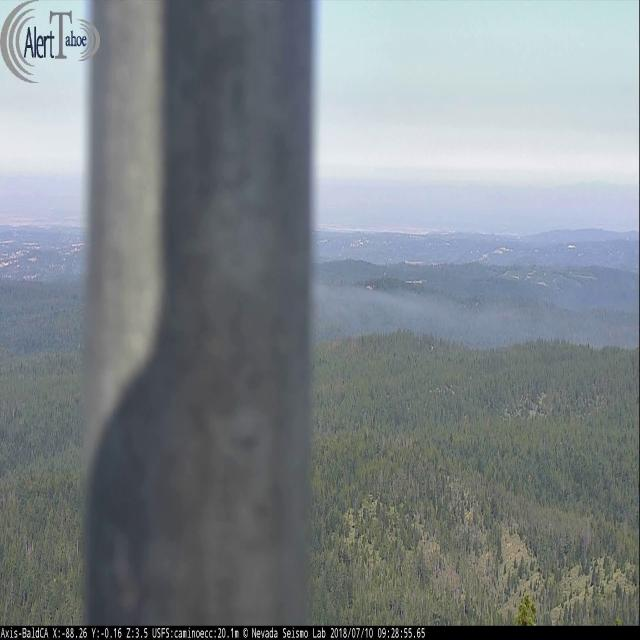smoke: (313, 282, 604, 344)
